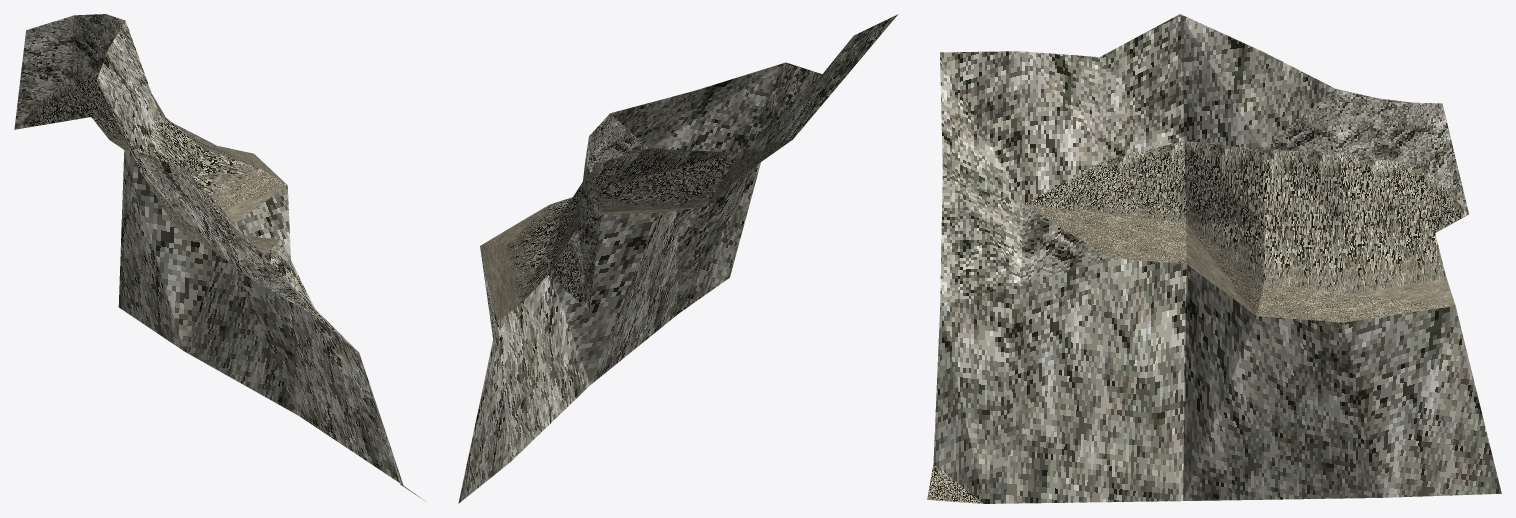
The model's file is lod_cs_landbit_19.obj.
The picture shows the model from 3 angles, left to right: view 1: azimuth 30°, elevation 25°; view 2: azimuth 150°, elevation 25°; view 3: azimuth 270°, elevation 25°; orthographic projection. The views are drawn at different scales.
Visible parts, largest first — view 1: lod_cs_landbit_19; view 2: lod_cs_landbit_19; view 3: lod_cs_landbit_19.
Part boxes in pixels (<box>): lod_cs_landbit_19: <box>14,14,425,501</box>; lod_cs_landbit_19: <box>458,14,897,503</box>; lod_cs_landbit_19: <box>927,14,1501,503</box>.
Bounding box in the file's own units: 108 × 169 × 224.
3 materials, 3 textured.
